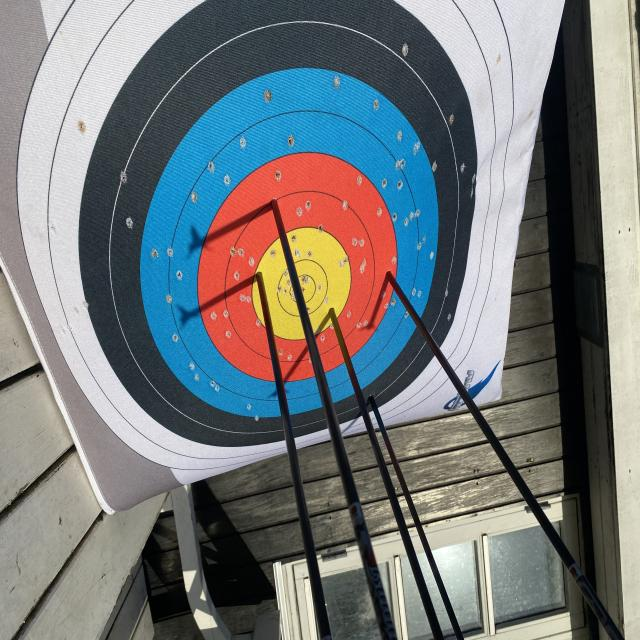Arrow_Black: (364, 383, 386, 413)
Arrow_Red: (260, 182, 288, 220), (376, 259, 407, 289)
Arrow_Yellow: (250, 266, 275, 290), (325, 300, 344, 330)
